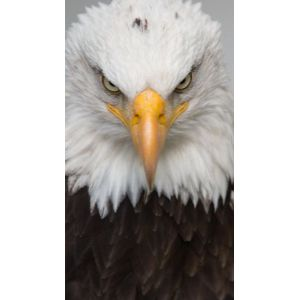eagle: (66, 4, 232, 296)
